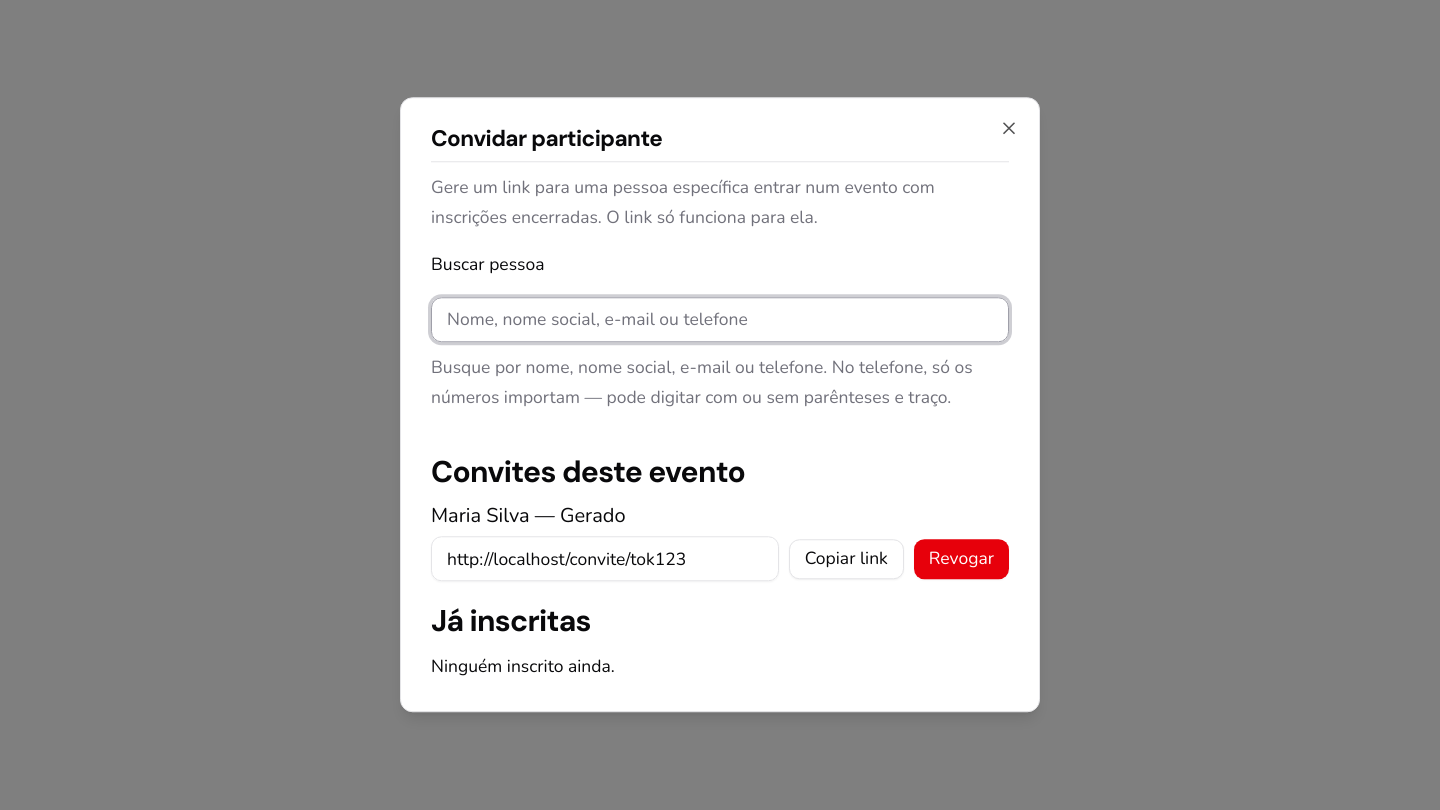
Scenario: the invite modal › says so when the revocation could not go through
Click the button "Revogar" at x=961, y=559, box [914,539,1009,579]
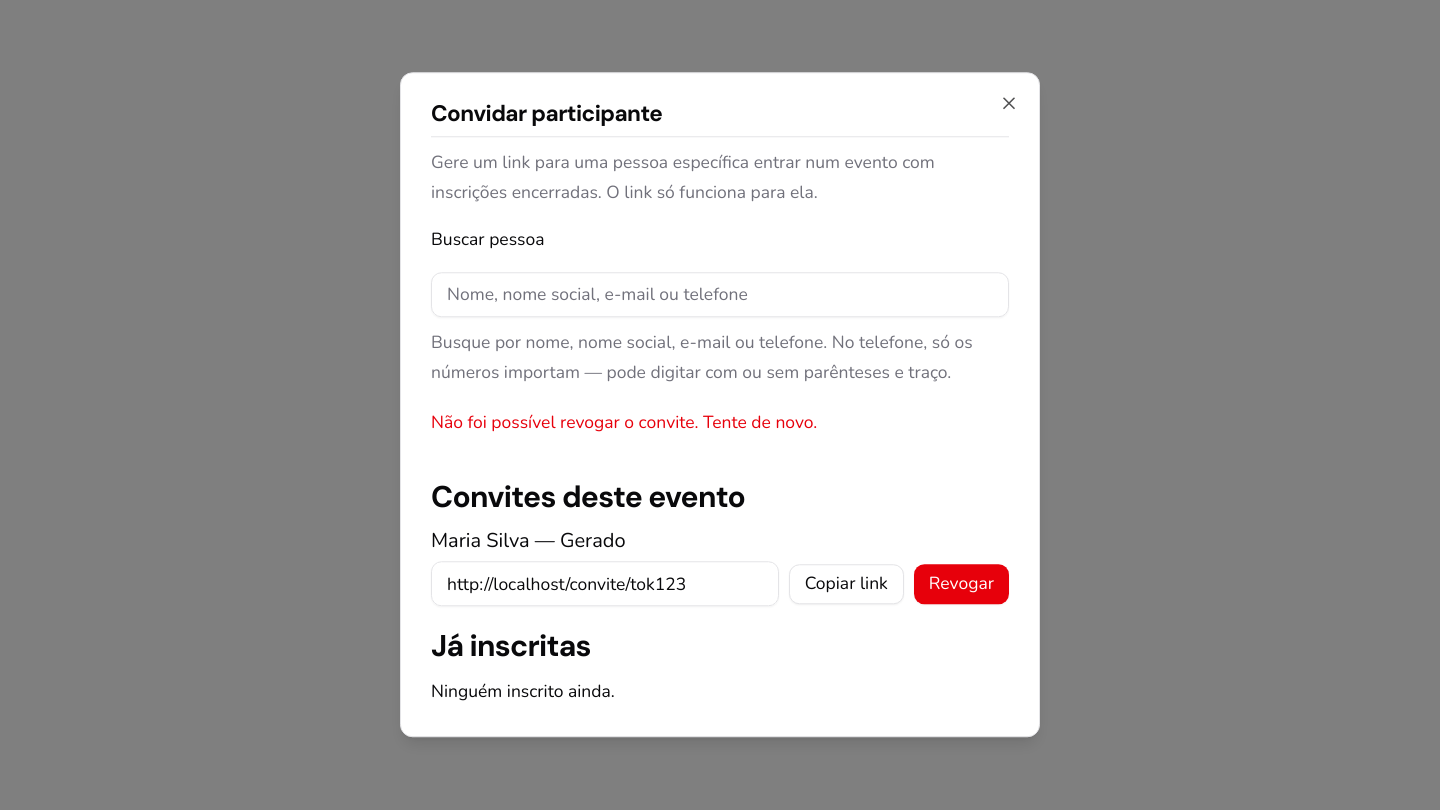
Expected: the text "Não foi possível revogar o convite. Tente de novo." is shown, [431,410,817,434]
